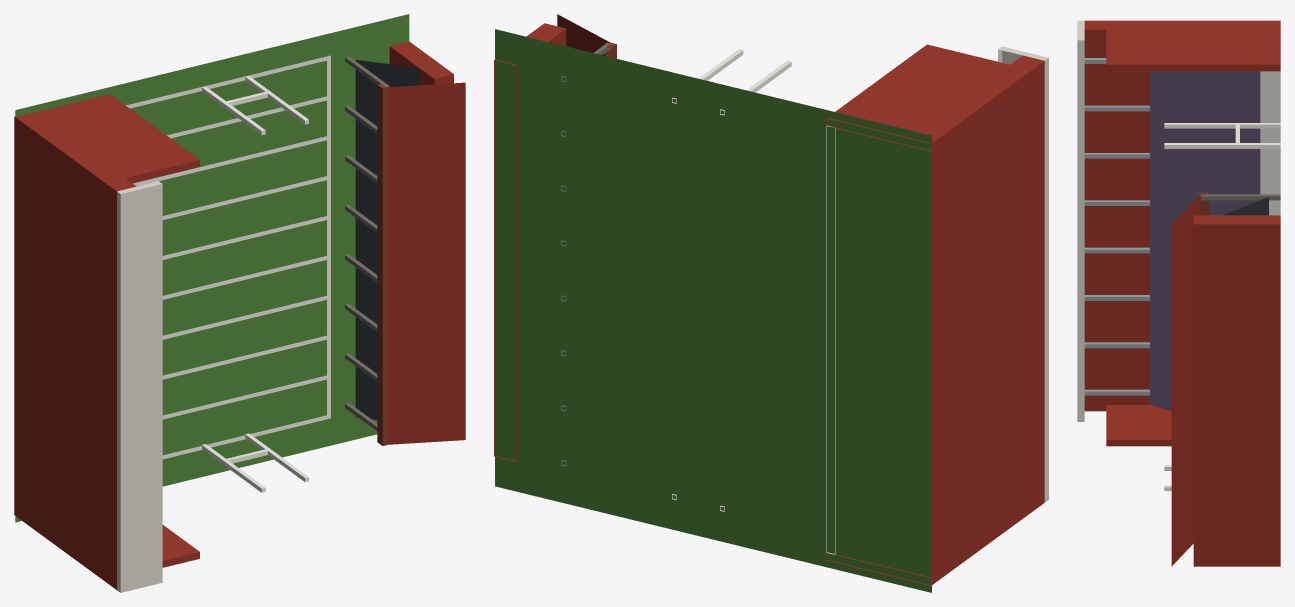
Rendered from complete.glb.
3 renders of one model, left to right at view 1: azimuth 30°, elevation 25°; view 2: azimuth 150°, elevation 25°; view 3: azimuth 270°, elevation 25°, orthographic. The views are drawn at different scales.
Visible parts, largest first — view 1: complete; view 2: complete; view 3: complete.
Boxes of the visible parts, x1,y1,x2,y2 form: complete: (14, 14, 465, 592); complete: (494, 14, 1048, 592); complete: (1077, 20, 1280, 566).
Size of the model in its own units: 30 by 30 by 14.
